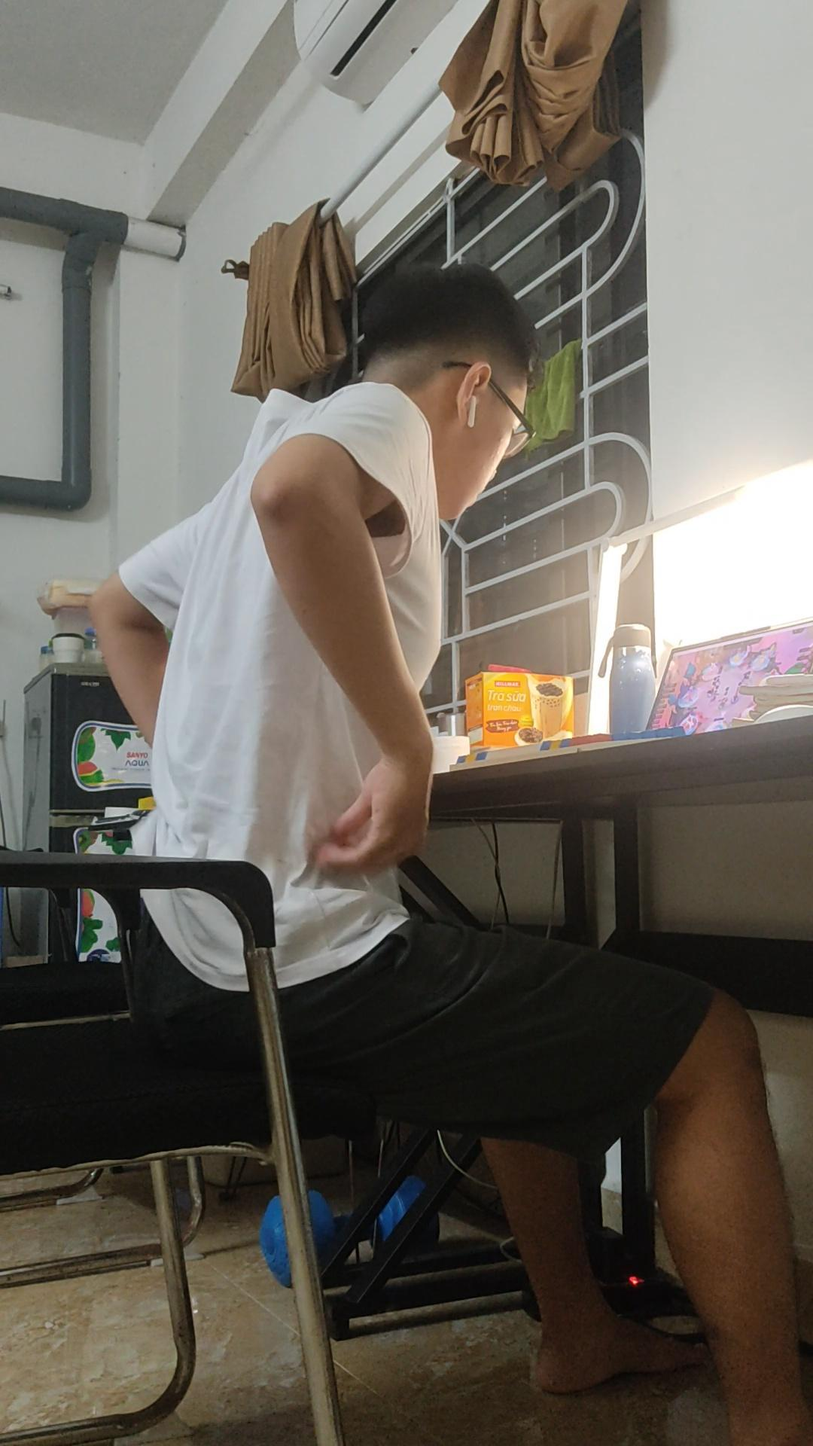GoodPosture: (93, 264, 812, 1445)
